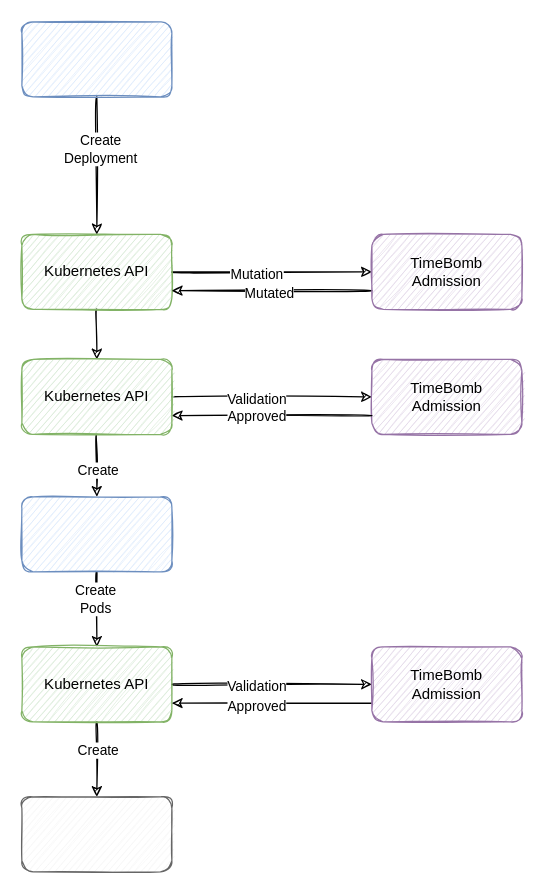
Some shapes in this 544 by 894 pixel diagram are drawn without their labels. The shapes that lost their labels are listed below. From the top down, each one's centre as x and y in pixels, then its label:
the point at 96,59: Helm
the point at 96,534: Deployment
the point at 96,834: Pod
